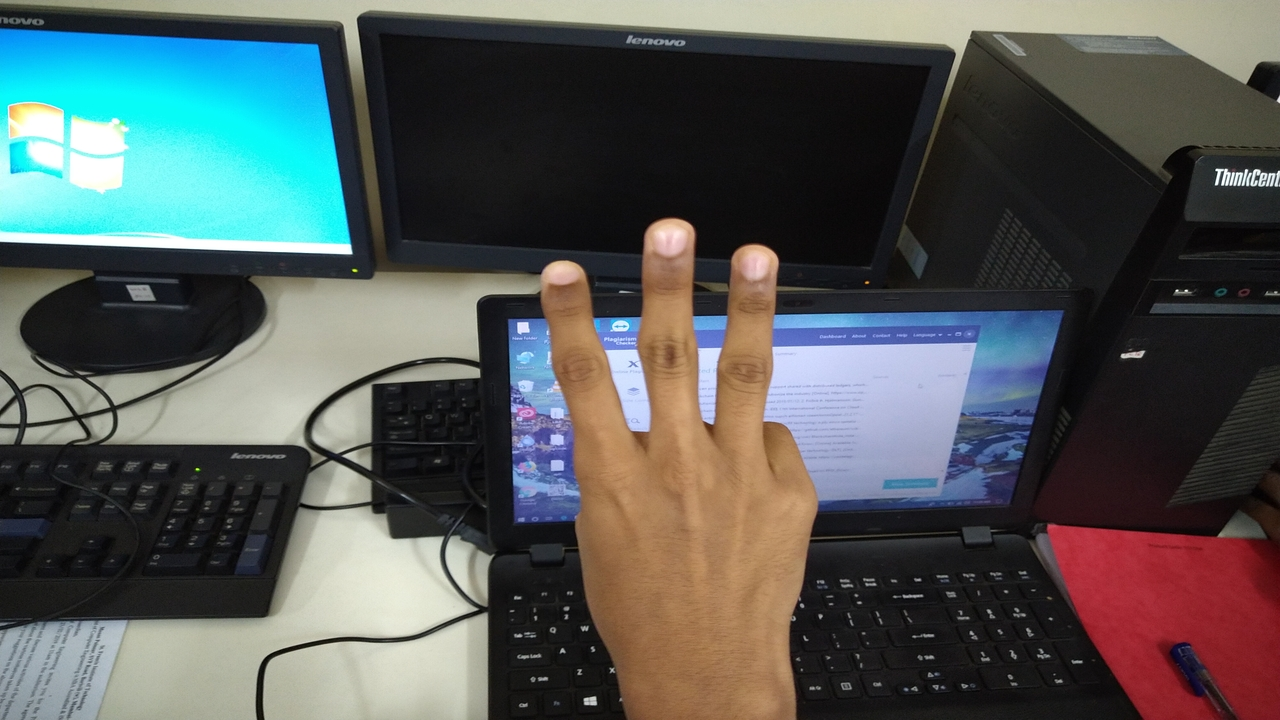fingertip: (636, 214, 700, 274), (534, 254, 596, 314), (726, 238, 784, 294)
